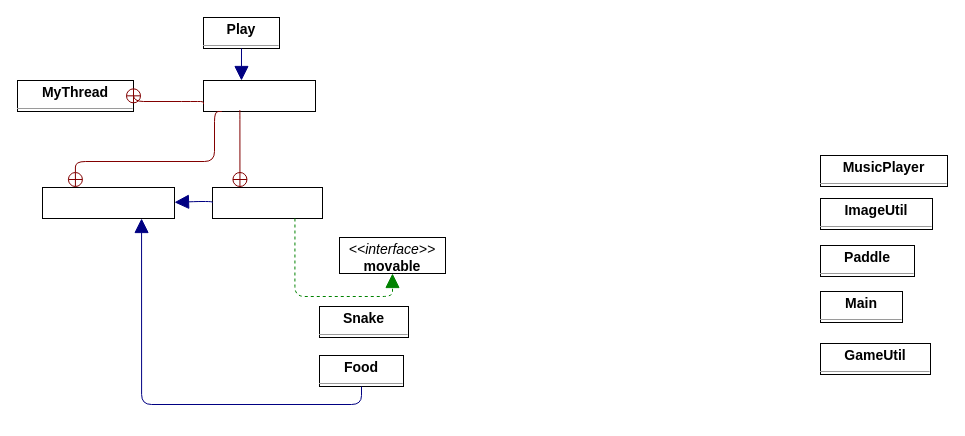
This 965x436 diagram has some shape labels left out. The box of each missing label's shape, as (x1, y1, x2, y2) in pixels:
MyFrame: (202, 80, 316, 112)
MySnake: (212, 186, 322, 218)
SnakeObject: (42, 186, 174, 218)
